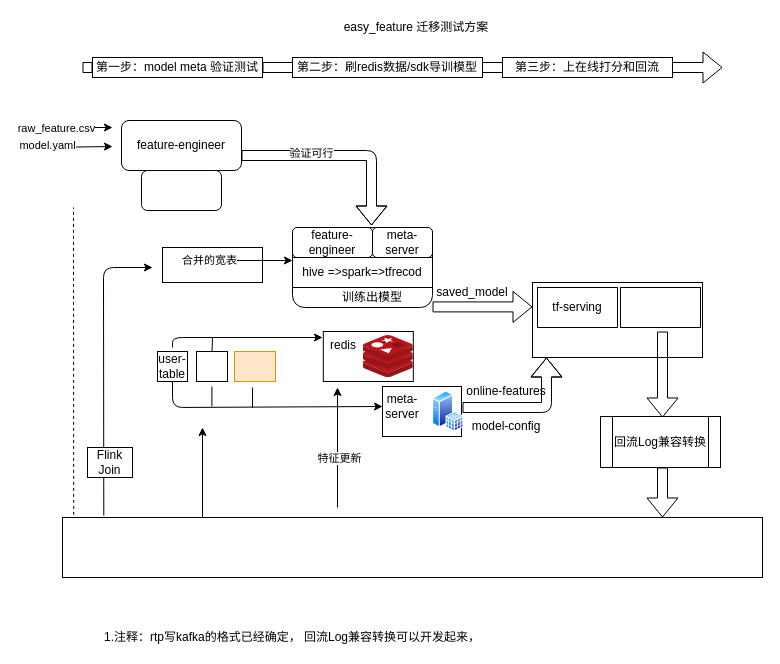
Some shapes in this 780 by 664 pixel diagram are drawn without their labels. The centre of each missing label's shape, as x and y in pixels:
context-feature: (x=255, y=366)
HIVE: (x=412, y=547)
item-table: (x=212, y=366)
meta-protocol 格式协议: (x=181, y=190)
rtp-server: (x=660, y=307)
